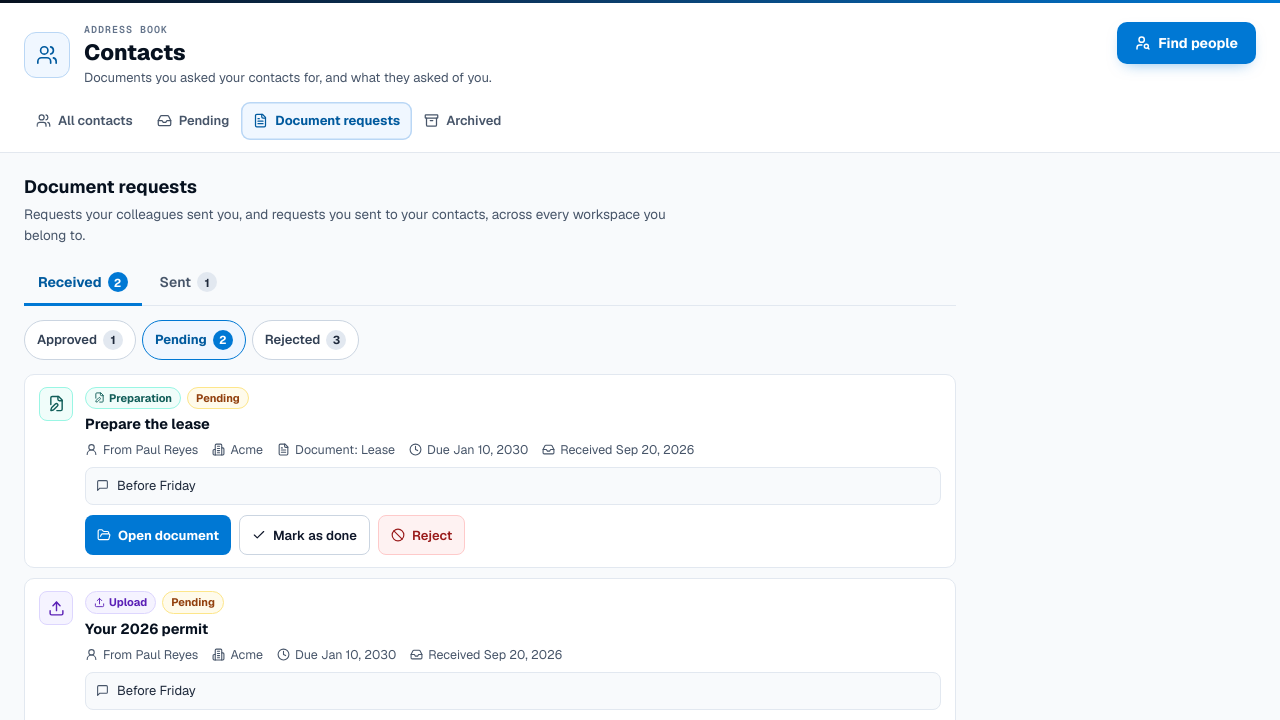
Test: views and sub-sections › shows Received and Sent, each with Approved / Pending / Rejected and counts
Expected: the tab "Approved 1" is shown, [24,320,136,360]
Expected: the tabs read "Approved1", "Pending2", "Rejected3", in this order, [24,320,136,360]; [142,320,246,360]; [252,320,359,360]
Click the tab "Sent 1" at x=188, y=284, box [146,262,231,306]
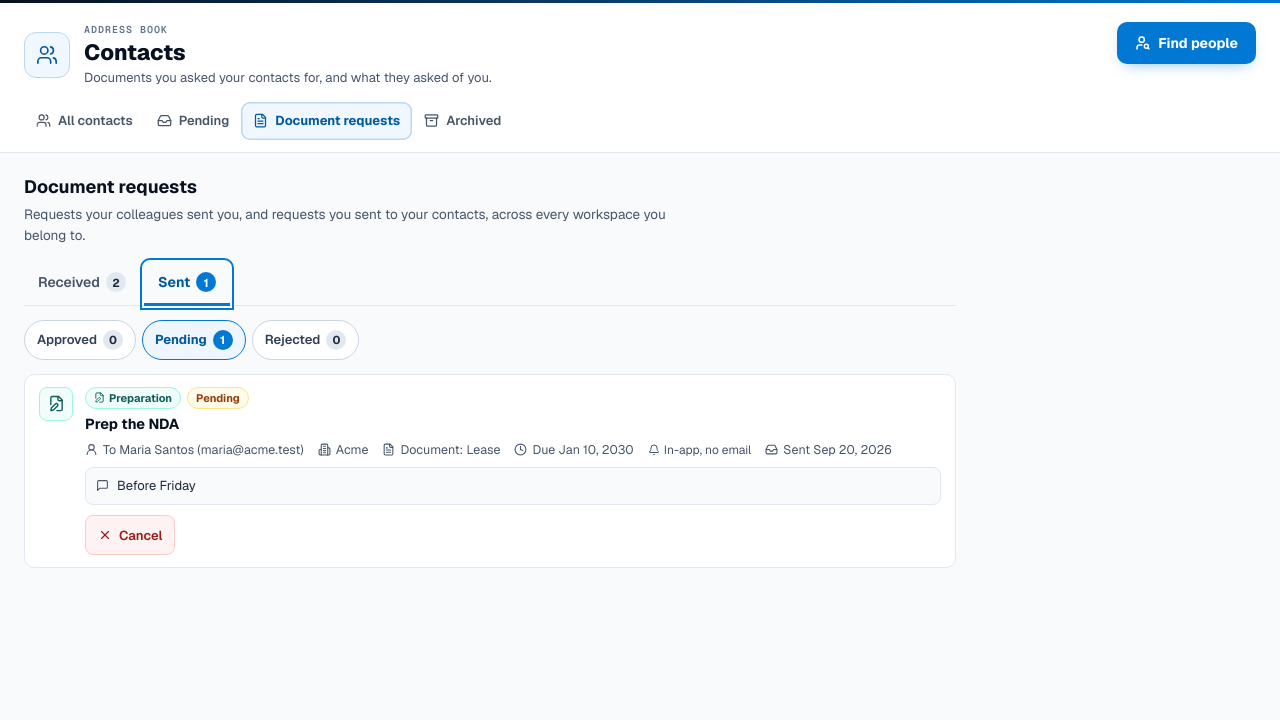
Expected: the tabs read "Approved0", "Pending1", "Rejected0", in this order, [24,320,136,360]; [142,320,246,360]; [252,320,359,360]
Expected: the text "To Maria Santos (maria@acme.test)" is shown, [103,441,304,459]
